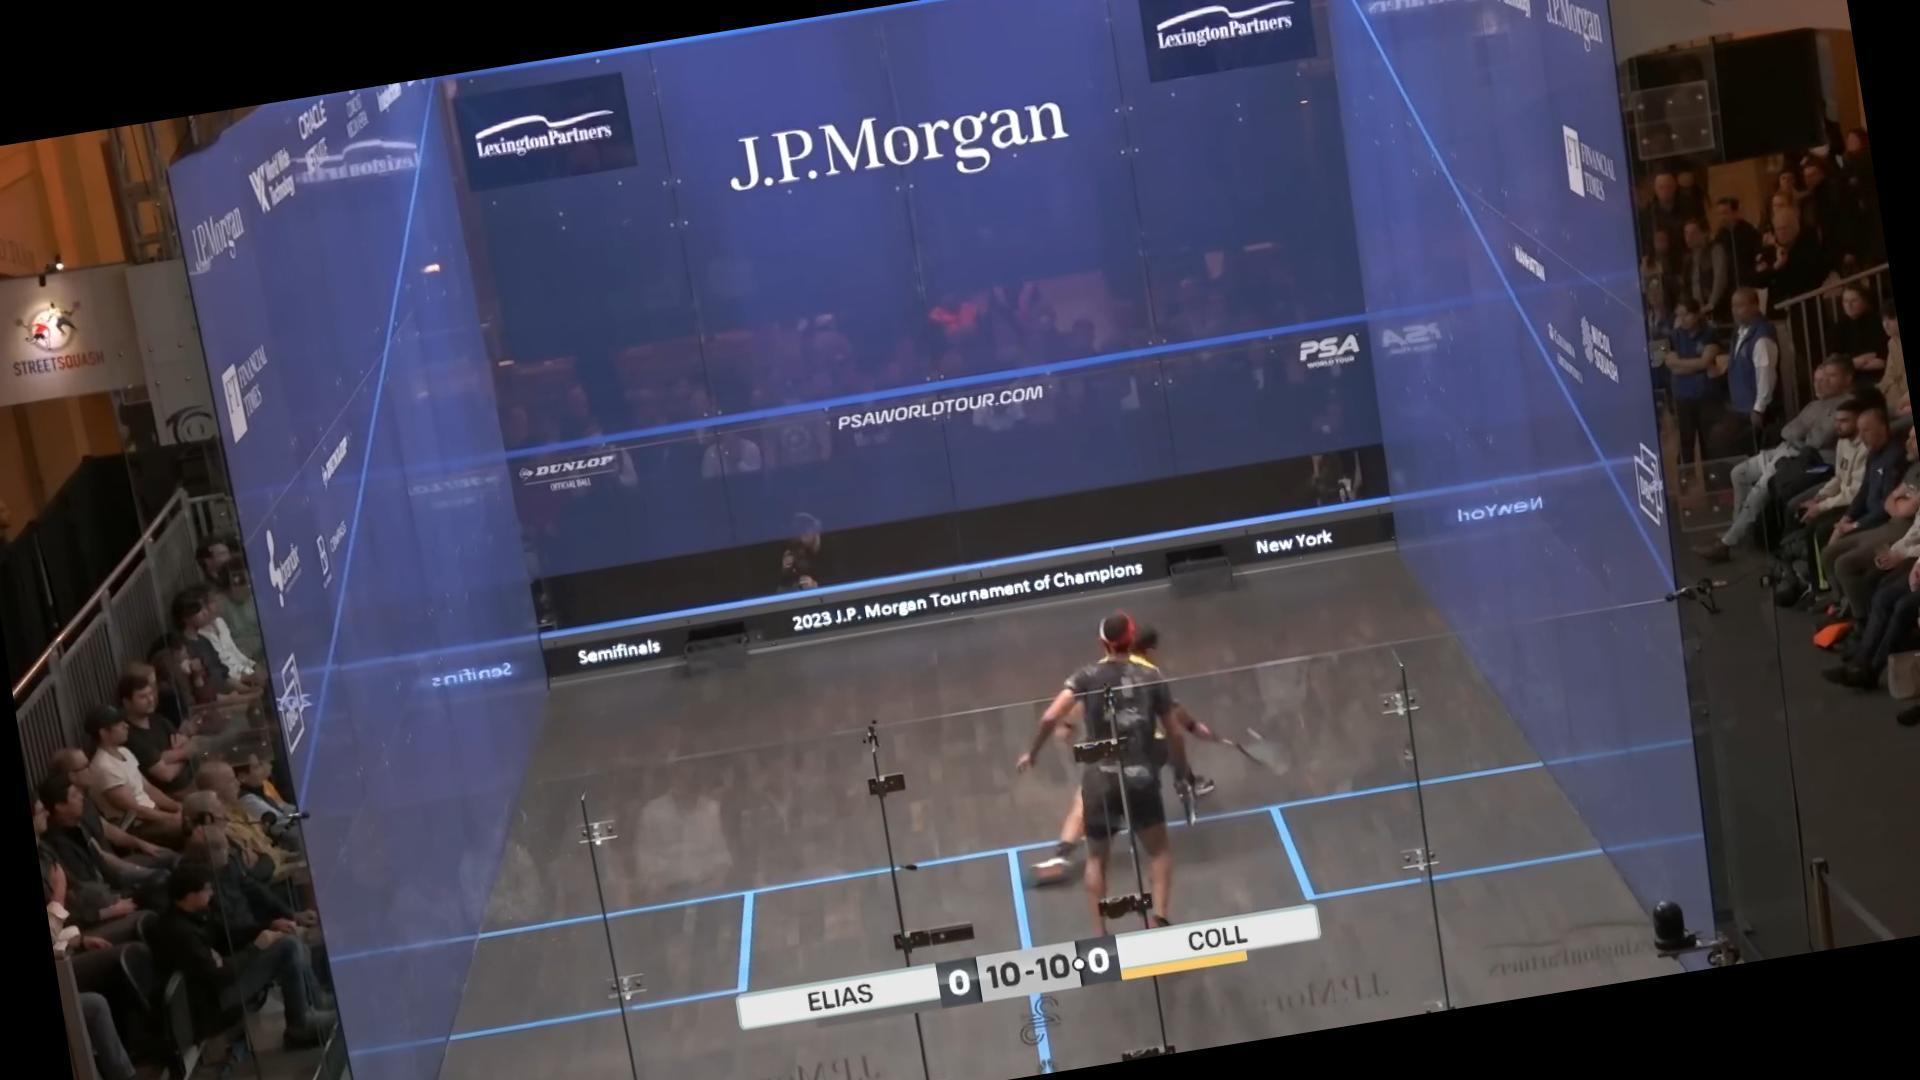Racket: (1196, 705, 1304, 791)
